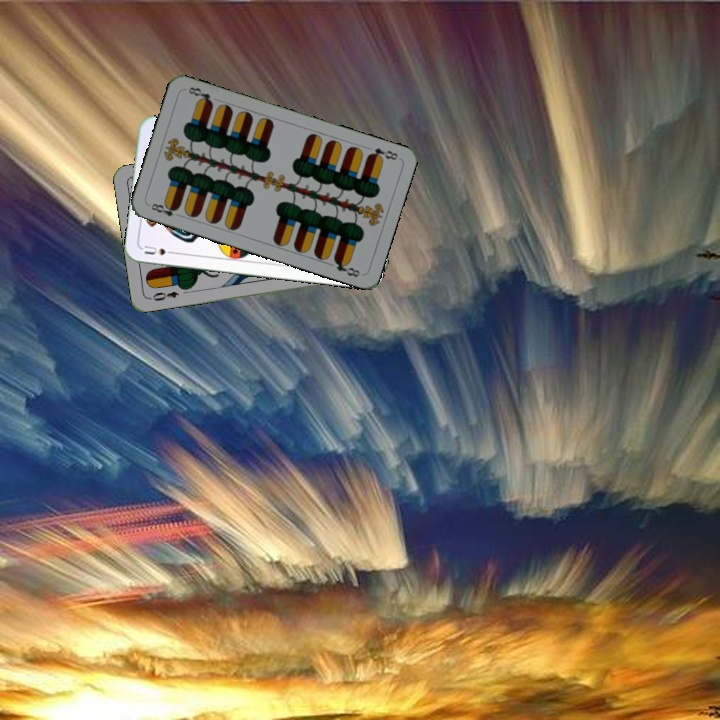E8: (145, 199, 184, 220), (363, 144, 400, 163)
EO: (145, 287, 181, 304)
SU: (141, 242, 179, 258)
